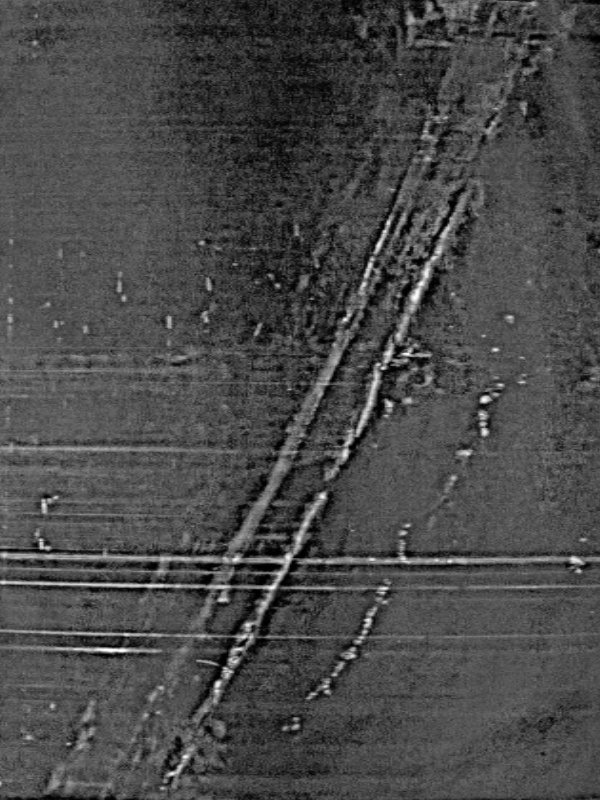splice_vulcanized: (45, 1, 563, 800)
